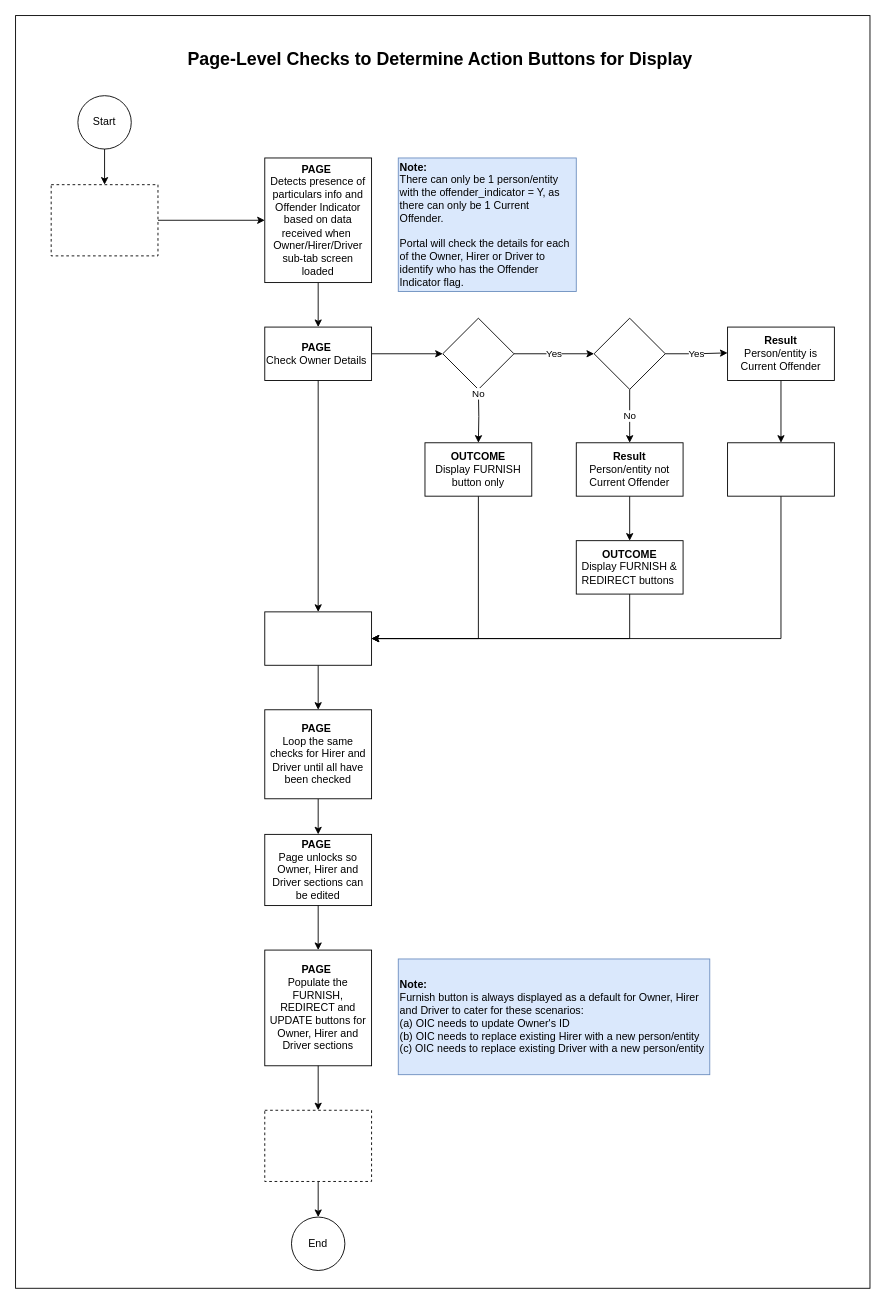
Image size: 886x1304. Some labels were removed from this diagram. Each missing label, with the box of its shape:
offender_indicator = Y?: (593, 317, 665, 389)
OUTCOME Display FURNISH & UPDATE button: (727, 442, 834, 496)
PAGE Owner check completed: (264, 611, 372, 665)
Particulars data is present?: (442, 317, 514, 389)
USER OIC clicks on a button to begin to make changes: (264, 1109, 372, 1181)
USER OIC clicks on UNLOCK button on Owner/Hirer/Driver Details screen: (50, 184, 158, 256)
